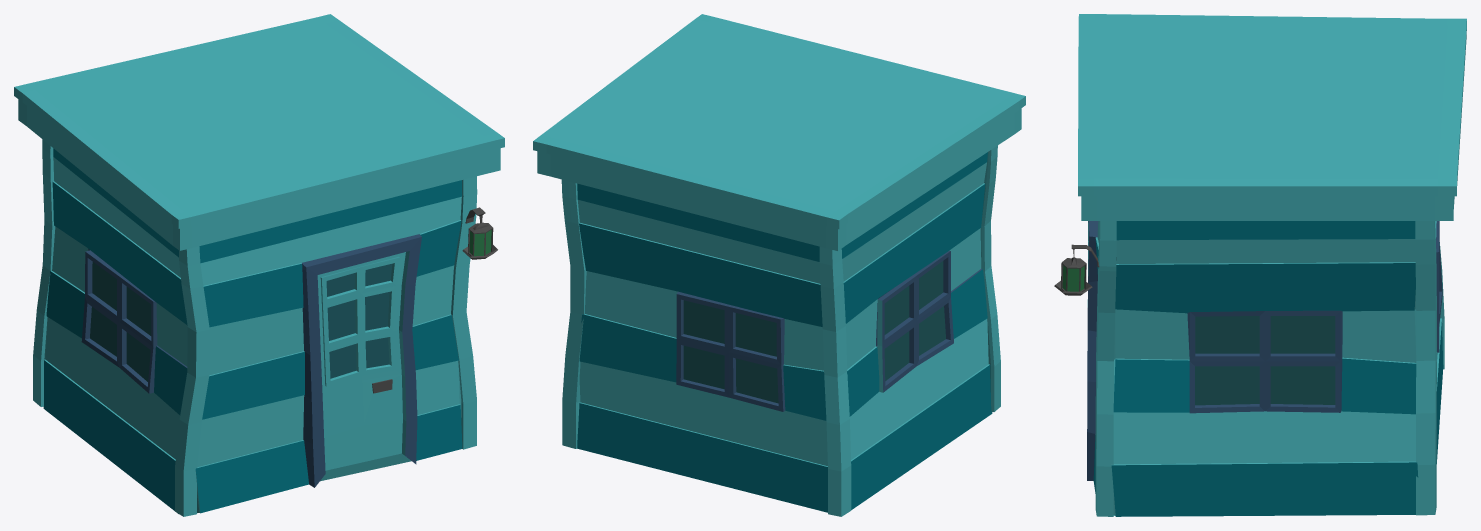
File: StylisedBuilding.fbx
The picture shows the model from 3 angles, left to right: view 1: azimuth 30°, elevation 25°; view 2: azimuth 150°, elevation 25°; view 3: azimuth 270°, elevation 25°; orthographic projection. The views are drawn at different scales.
Parts seen in each view (by area): view 1: House; view 2: House; view 3: House.
Boxes of the visible parts, x1,y1,x2,y2 form: House: (14,14,504,516); House: (533,14,1025,516); House: (1054,14,1466,516).
Bounding box in the file's own units: 2493 × 2293 × 2483.
